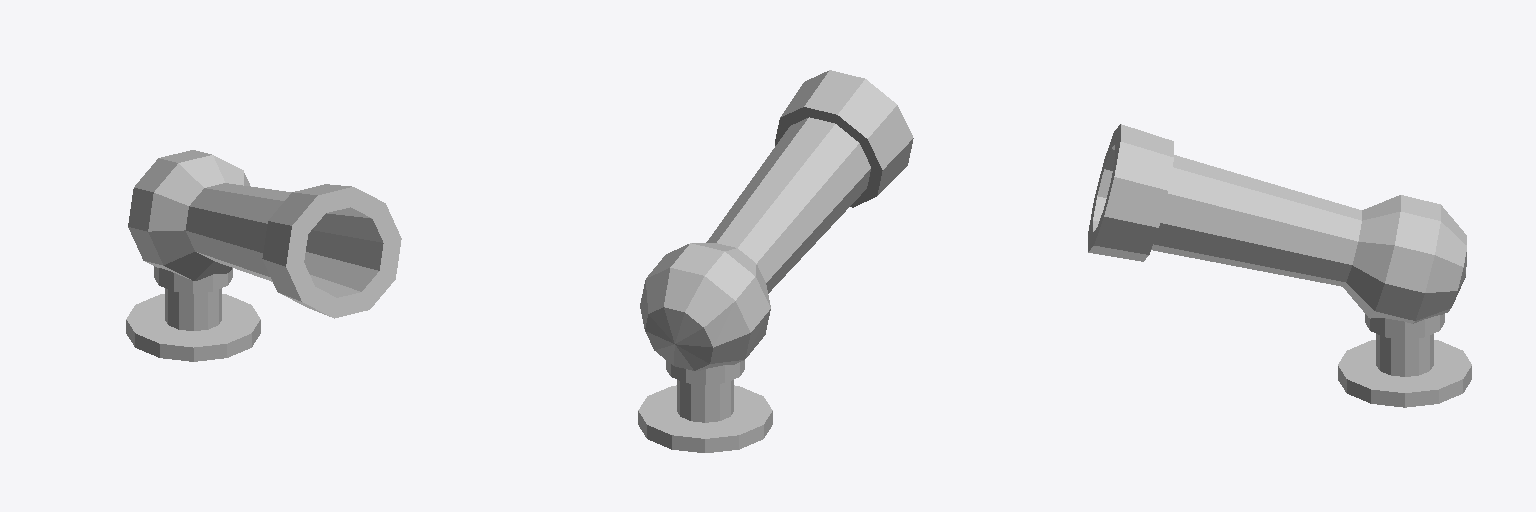
The model's file is Turret.obj.
3 views of the same model, side by side, from view 1: azimuth 30°, elevation 25°; view 2: azimuth 150°, elevation 25°; view 3: azimuth 270°, elevation 25° (orthographic).
Visible parts, largest first — view 1: FrontCanon001; view 2: FrontCanon001; view 3: FrontCanon001.
Boxes of the visible parts, box(x1,y1,x2,y2) form: FrontCanon001: box(126, 150, 401, 361); FrontCanon001: box(638, 70, 913, 452); FrontCanon001: box(1088, 124, 1471, 407).
Bounding box in the file's own units: 0.6129 × 1.24 × 1.75.